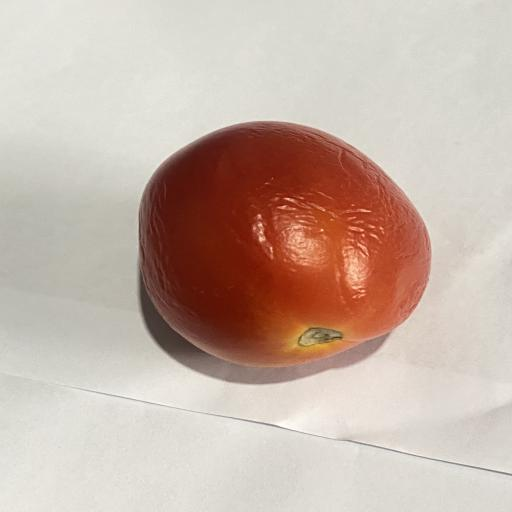spoiled: (139, 121, 431, 367)
